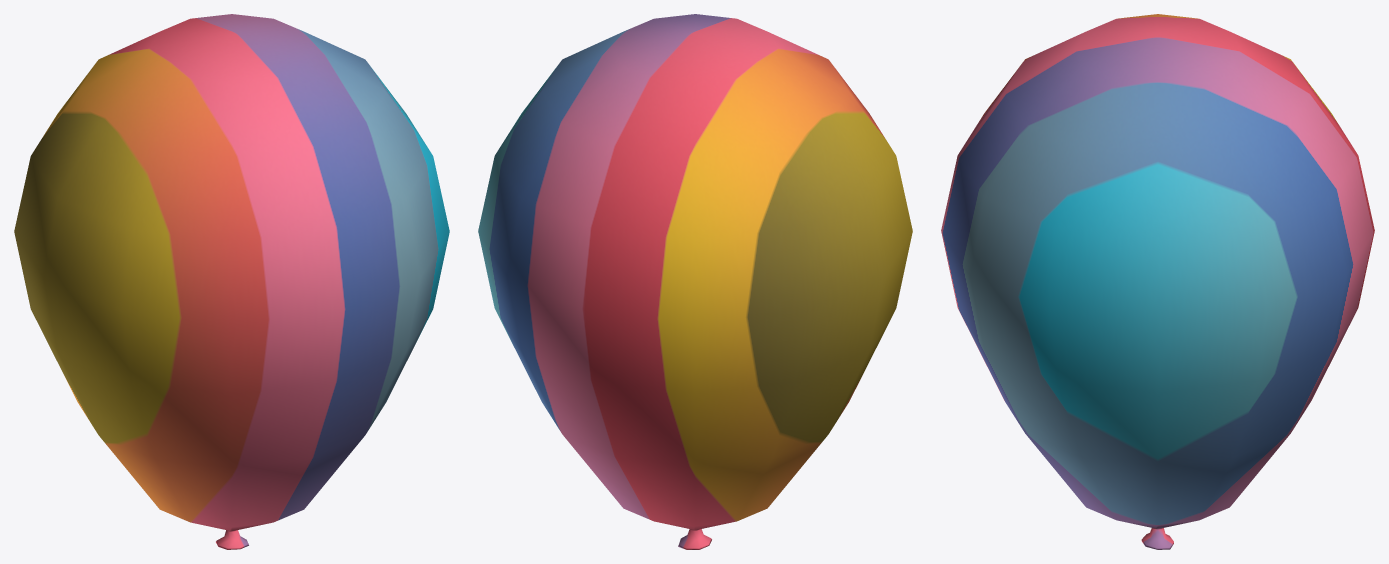
Rendered from SM_balloon_mega.fbx.
3 renders of one model, left to right at view 1: azimuth 30°, elevation 25°; view 2: azimuth 150°, elevation 25°; view 3: azimuth 270°, elevation 25°, orthographic.
Visible parts, largest first — view 1: Cube.040; view 2: Cube.040; view 3: Cube.040.
Boxes of the visible parts, <box> form: Cube.040: <box>14,14,449,549</box>; Cube.040: <box>478,14,912,549</box>; Cube.040: <box>941,14,1374,549</box>.
Size of the model in its own units: 121 by 157 by 121.
